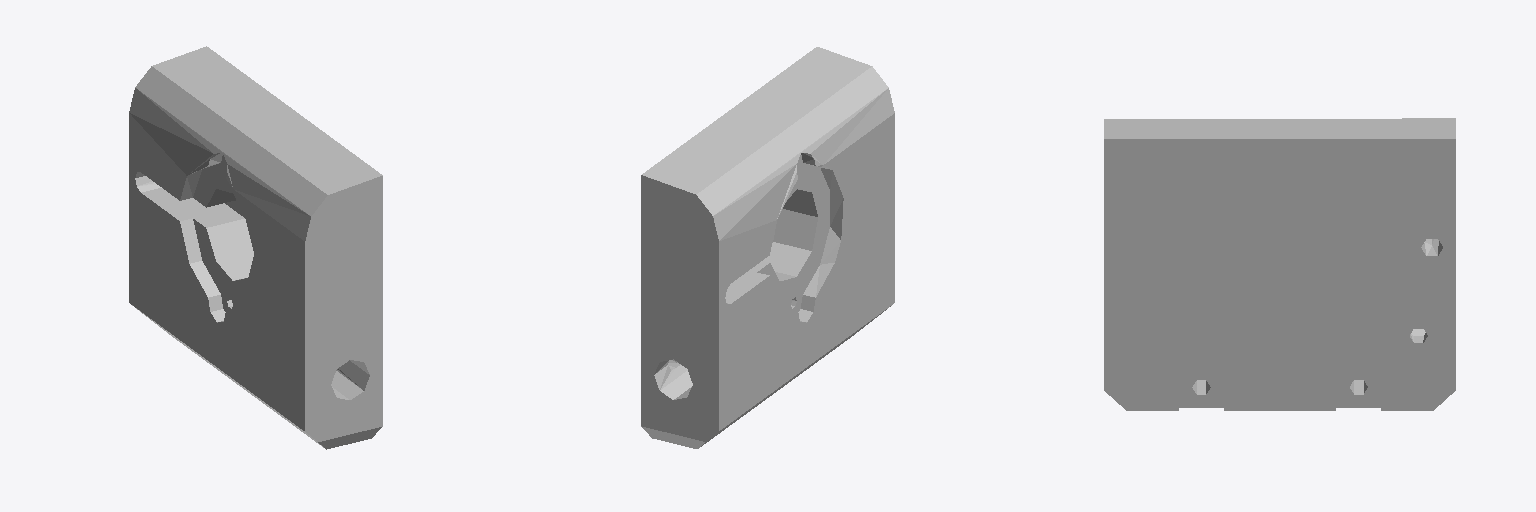
File: legl_heel_joint.obj
3 renders of one model, left to right at view 1: azimuth 30°, elevation 25°; view 2: azimuth 150°, elevation 25°; view 3: azimuth 270°, elevation 25°, orthographic.
Bounding box in the file's own units: 0.012 × 0.04 × 0.047.